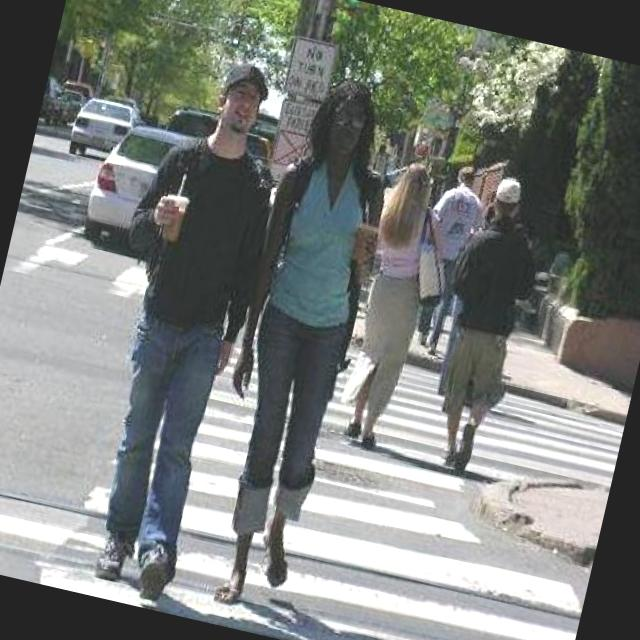Person: (175, 64, 411, 631), (64, 43, 300, 598), (411, 166, 554, 476), (331, 154, 452, 452)
